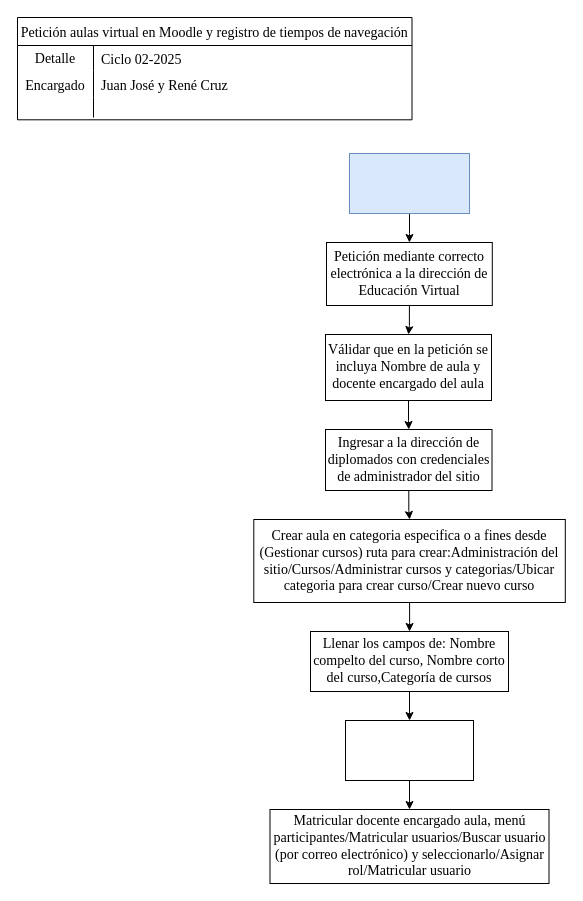
This 583x901 diagram has some shape labels left out. The shapes that lost their labels are listed below. From the top down, each one's centre as x and y in pixels, then its label:
At point 409,183: "Creación de aulas virtuales Diplomados".
At point 409,750: "Se guardan cambios y se muestra el curso creado".
